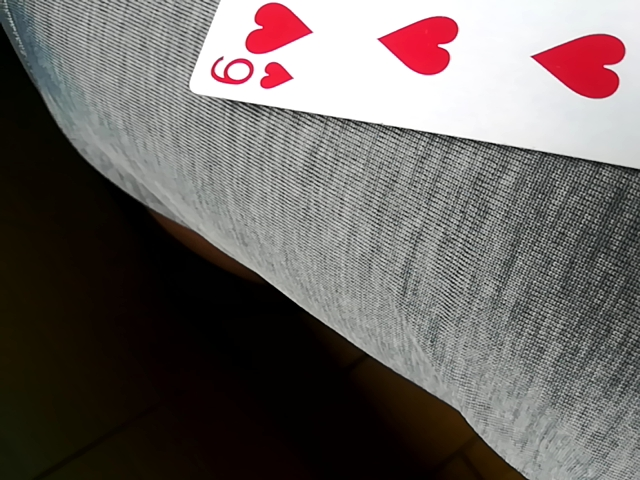hx 6: (182, 2, 640, 163)
